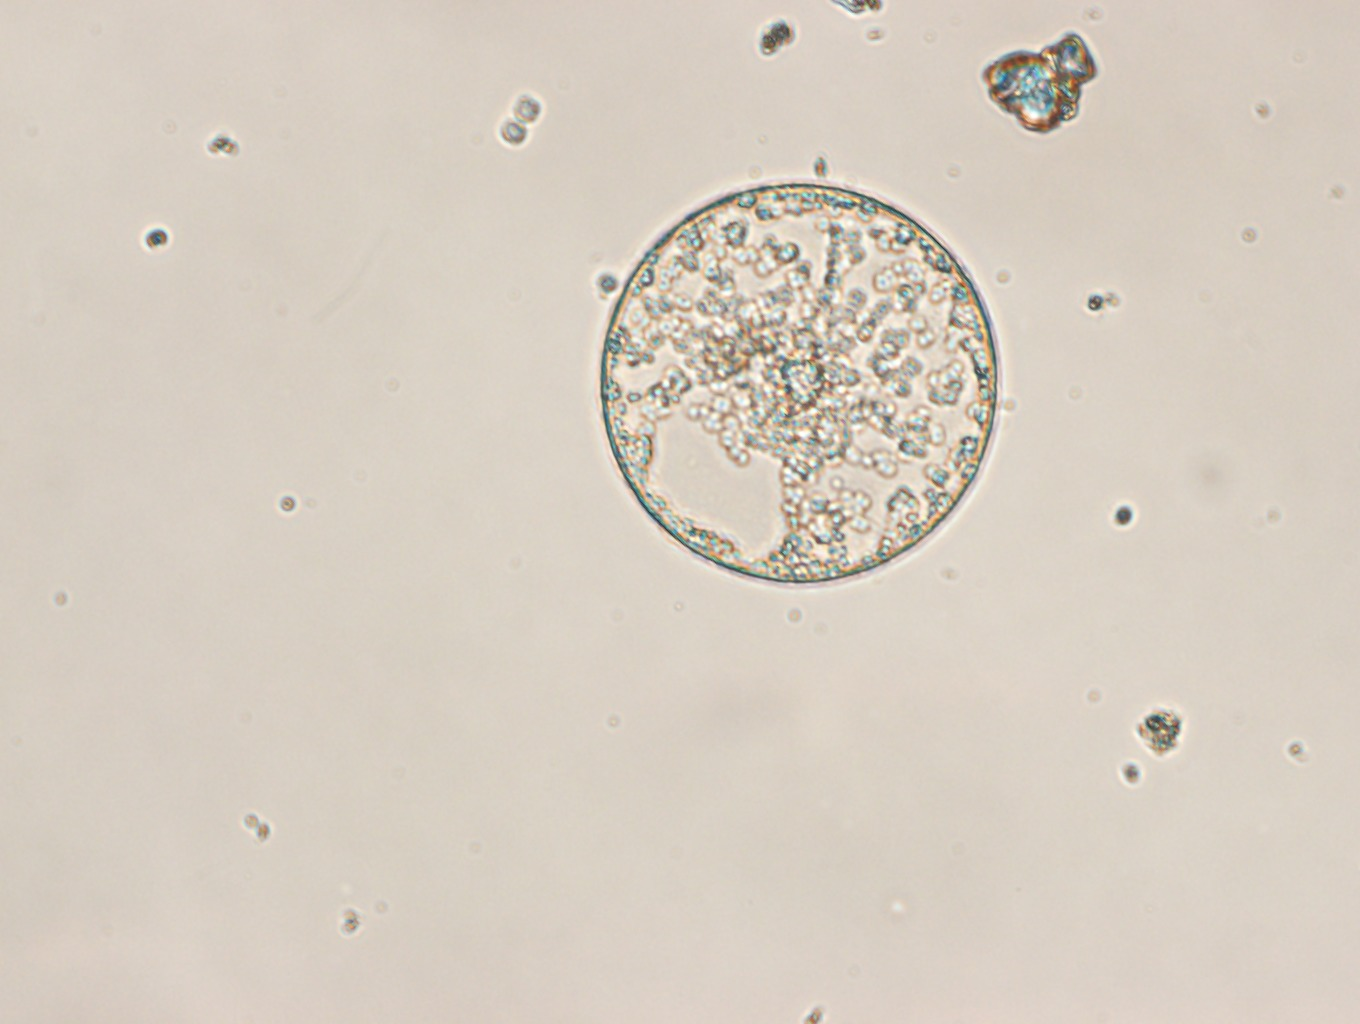coscinodiscus: (597, 181, 1002, 586)
